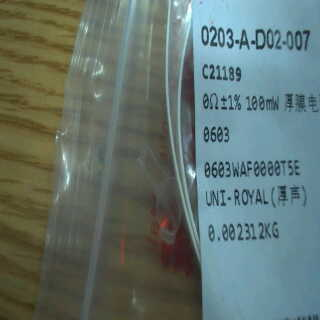0R: (198, 87, 281, 154)
